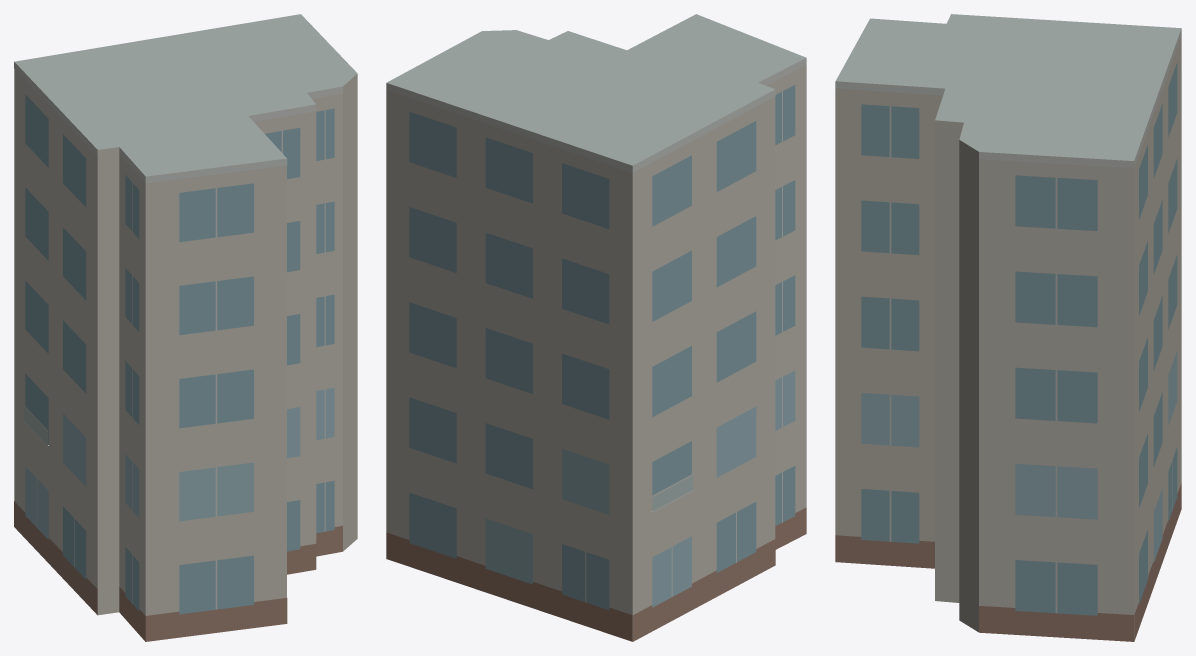
The model's file is survey-upis-32473806.glb.
The picture shows the model from 3 angles, left to right: view 1: azimuth 30°, elevation 25°; view 2: azimuth 150°, elevation 25°; view 3: azimuth 270°, elevation 25°; orthographic projection. The views are drawn at different scales.
Visible parts, largest first — view 1: survey-upis-32473806.tmp; view 2: survey-upis-32473806.tmp; view 3: survey-upis-32473806.tmp.
Boxes of the visible parts, bbox=[...] form: survey-upis-32473806.tmp: bbox=[14, 14, 357, 641]; survey-upis-32473806.tmp: bbox=[386, 14, 806, 641]; survey-upis-32473806.tmp: bbox=[835, 14, 1181, 641].
Bounding box in the file's own units: 10.77 × 16.4 × 10.71.
